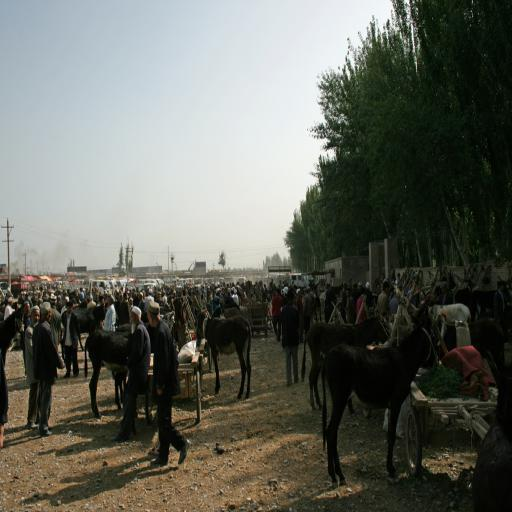horse: (320, 308, 436, 488), (302, 309, 390, 409), (192, 304, 252, 400), (82, 326, 136, 419)
